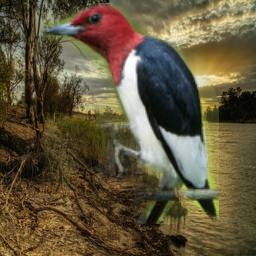Woodpecker: (41, 3, 219, 224)
